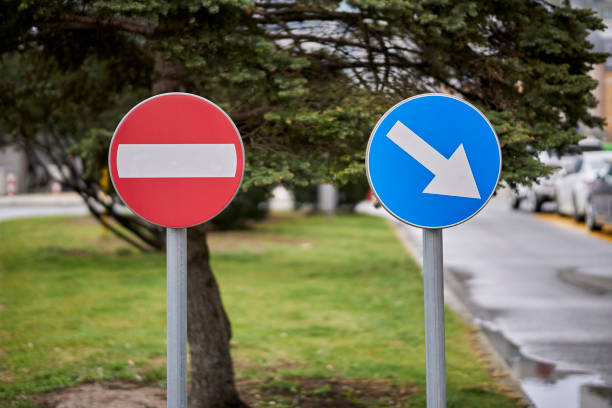Girilmez: (106, 90, 244, 235)
